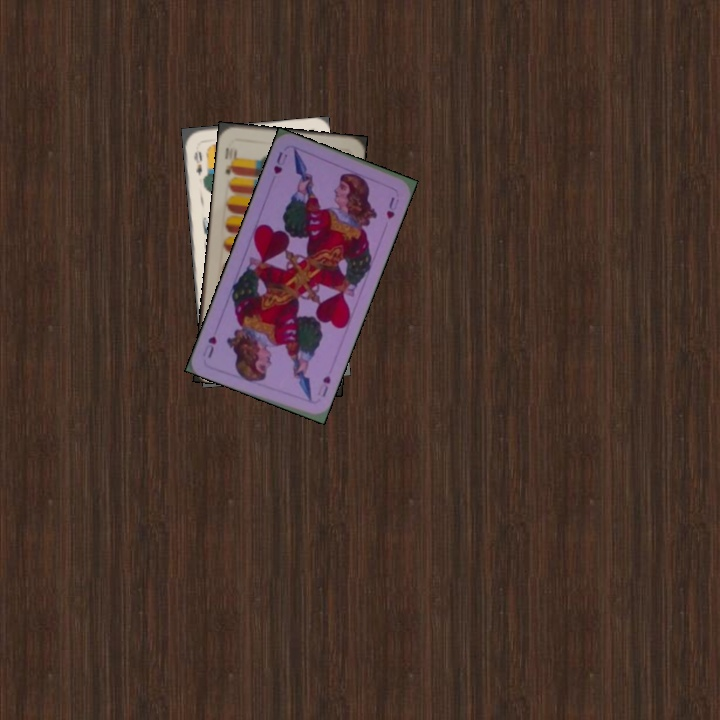E10: (221, 144, 240, 177)
EO: (190, 147, 205, 178)
HU: (313, 371, 333, 400), (269, 148, 285, 177)
